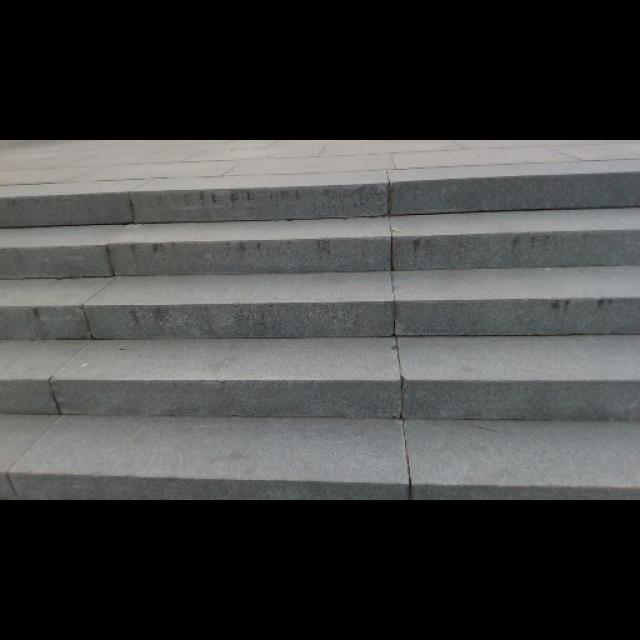Stairs: (0, 167, 639, 498)
